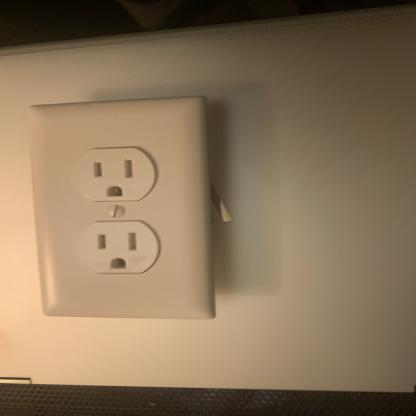OUTLET: (31, 96, 215, 318)
